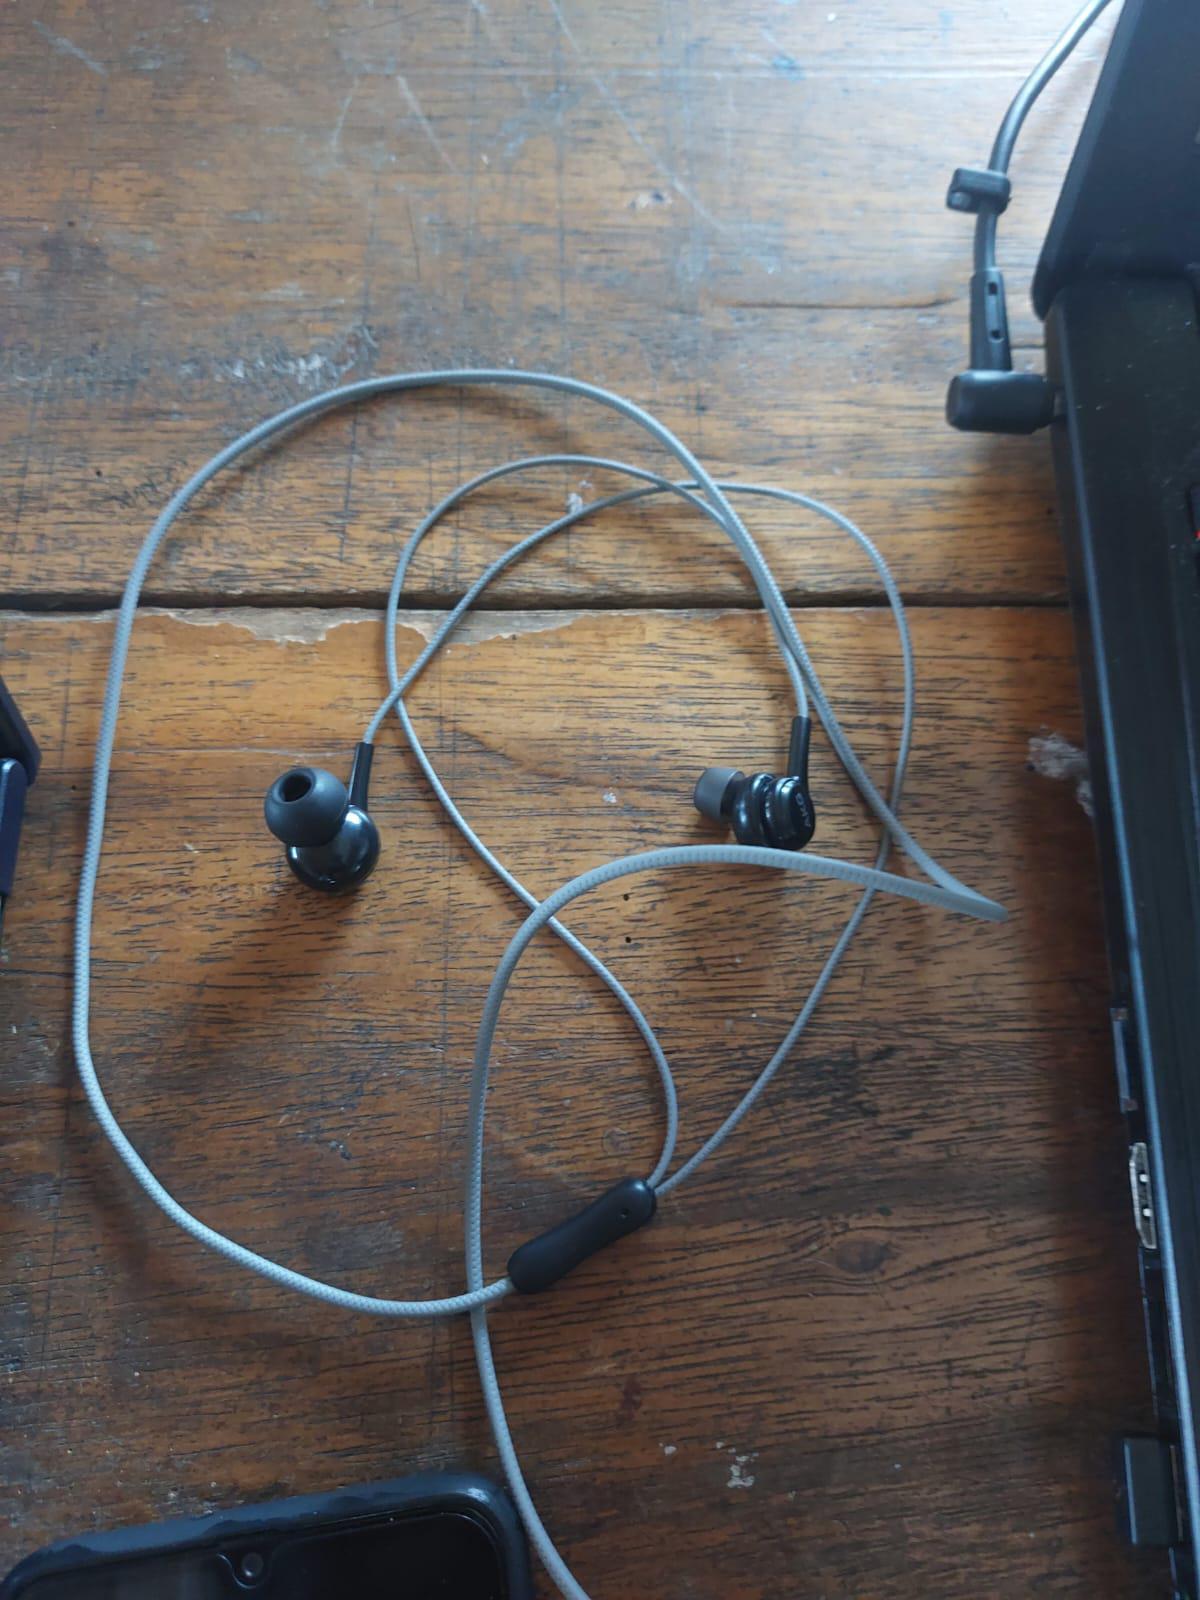Earphone: (232, 700, 415, 915), (688, 700, 846, 864)
